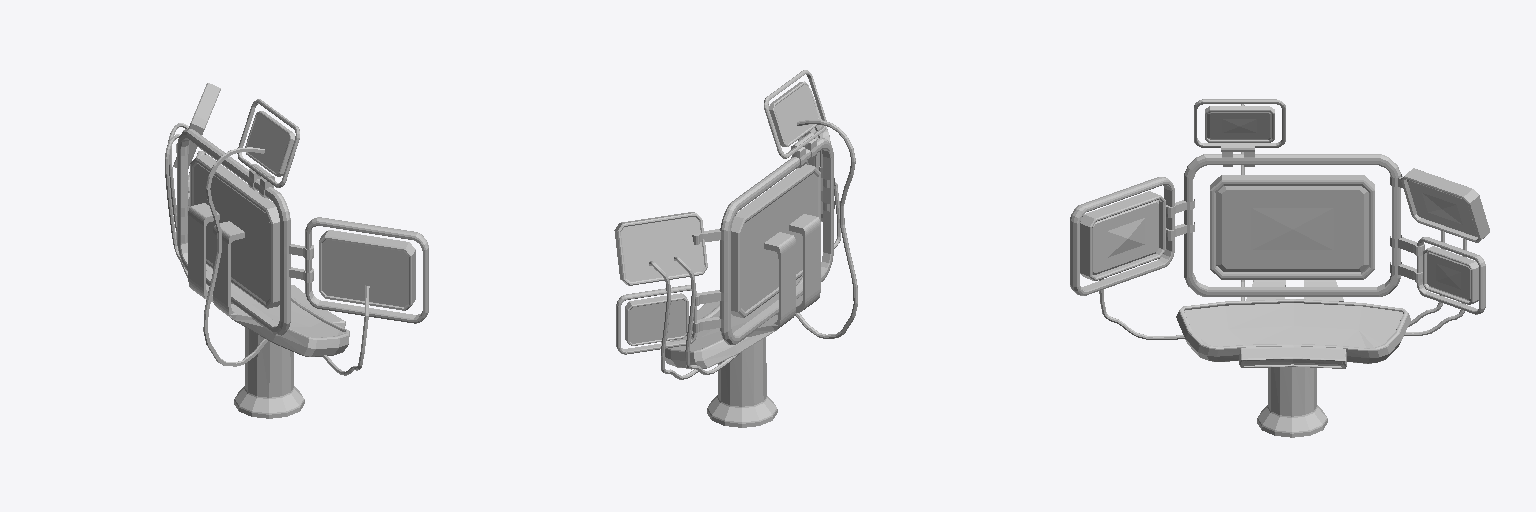
Rendered from Computer.obj.
3 views of the same model, side by side, from view 1: azimuth 30°, elevation 25°; view 2: azimuth 150°, elevation 25°; view 3: azimuth 270°, elevation 25° (orthographic).
Visible parts, largest first — view 1: Object003_Mesh; view 2: Object003_Mesh; view 3: Object003_Mesh.
Part boxes in pixels (x1,y1,x2,y2): Object003_Mesh: (165,83,428,418); Object003_Mesh: (614,70,857,427); Object003_Mesh: (1070,99,1489,437).
Size of the model in its own units: 0.9372 by 1.98 by 2.4.